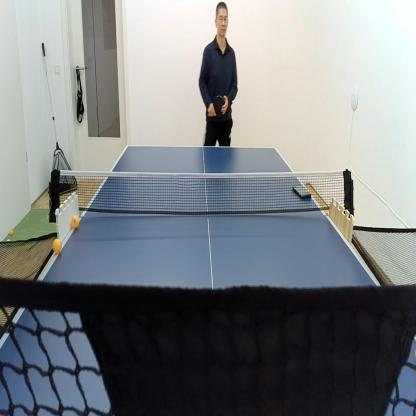Ball: (52, 238, 62, 254), (72, 217, 79, 228), (10, 229, 13, 234), (7, 239, 11, 242)
